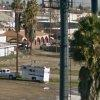Bus: (18, 62, 52, 83)
